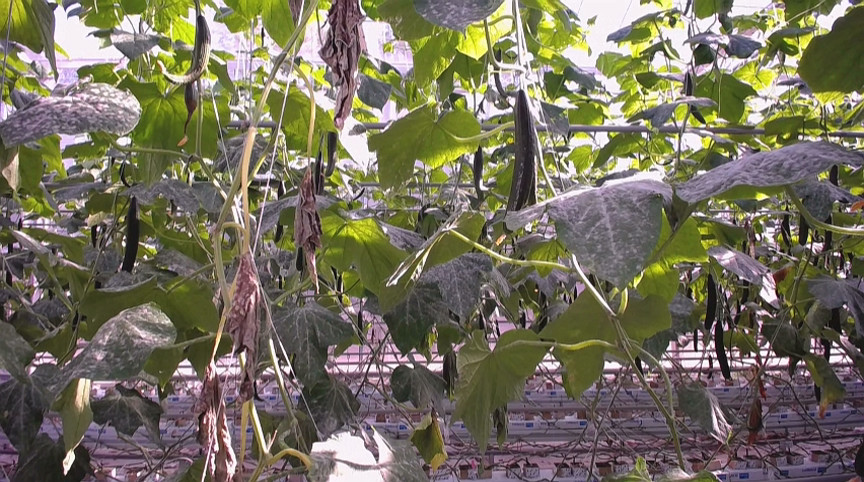cucumber: (504, 89, 536, 236), (162, 16, 211, 85), (119, 197, 142, 276), (715, 321, 734, 381), (703, 274, 716, 332), (325, 130, 340, 177)
